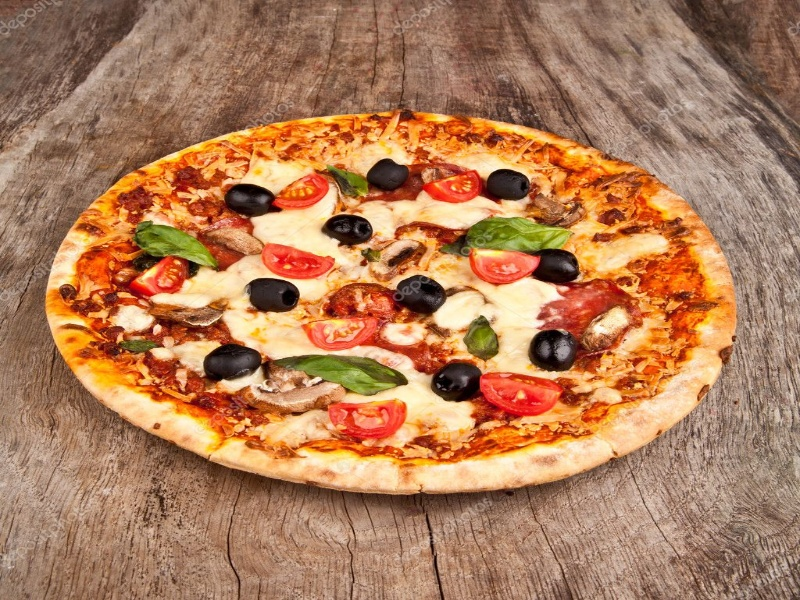olive noir: (196, 338, 266, 379), (425, 351, 483, 398), (388, 272, 456, 310), (531, 325, 581, 372), (242, 277, 303, 315), (319, 206, 375, 247), (219, 180, 281, 217), (532, 246, 586, 284), (483, 167, 533, 201), (371, 160, 409, 190)
